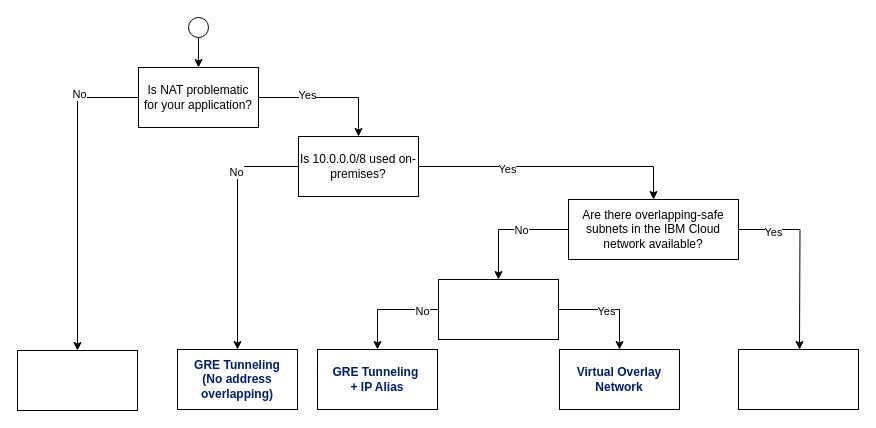
The diagram is 876 pixels wide and 428 high, and some of its shapes have lost their labels. The centre of each missing label's shape, as x and y in pixels:
"GRE Tunneling (Partial address overlapping)" belongs at (798,379).
"Is IP alias problematic?" belongs at (498,309).
"NAT" belongs at (77,380).
